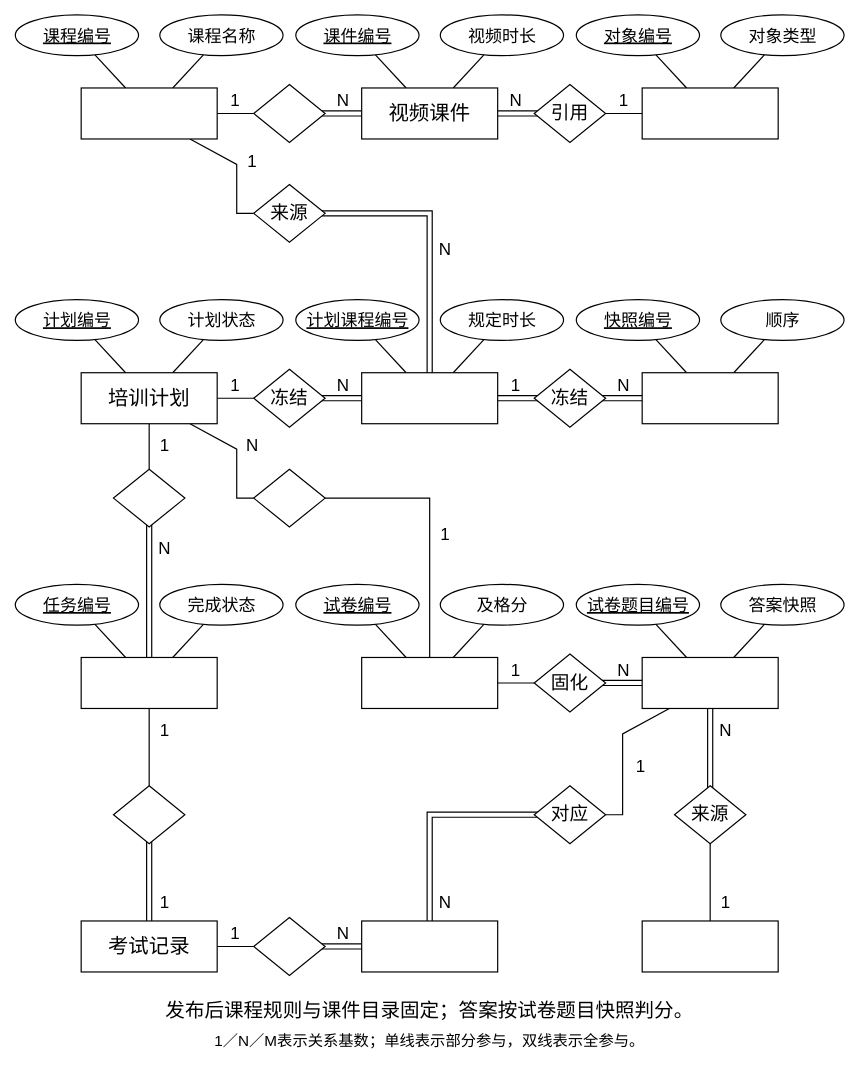
Some shapes in this 859 by 1070 pixel diagram are drawn without their labels. The centre of each missing label's shape, as x and y in pixels:
"作答" belongs at point (289, 946).
"使用" belongs at point (289, 497).
"分配" belongs at point (148, 497).
"包含" belongs at point (289, 113).
"参加" belongs at point (148, 814).
"参训任务" belongs at point (148, 682).
"存储对象" belongs at point (709, 113).
"考试答案" belongs at point (429, 946).
"计划课程" belongs at point (429, 398).
"试卷" belongs at point (429, 682).
"试卷题目" belongs at point (709, 682).
"课件快照" belongs at point (709, 398).
"课程" belongs at point (148, 113).
"题库题目" belongs at point (709, 946).
